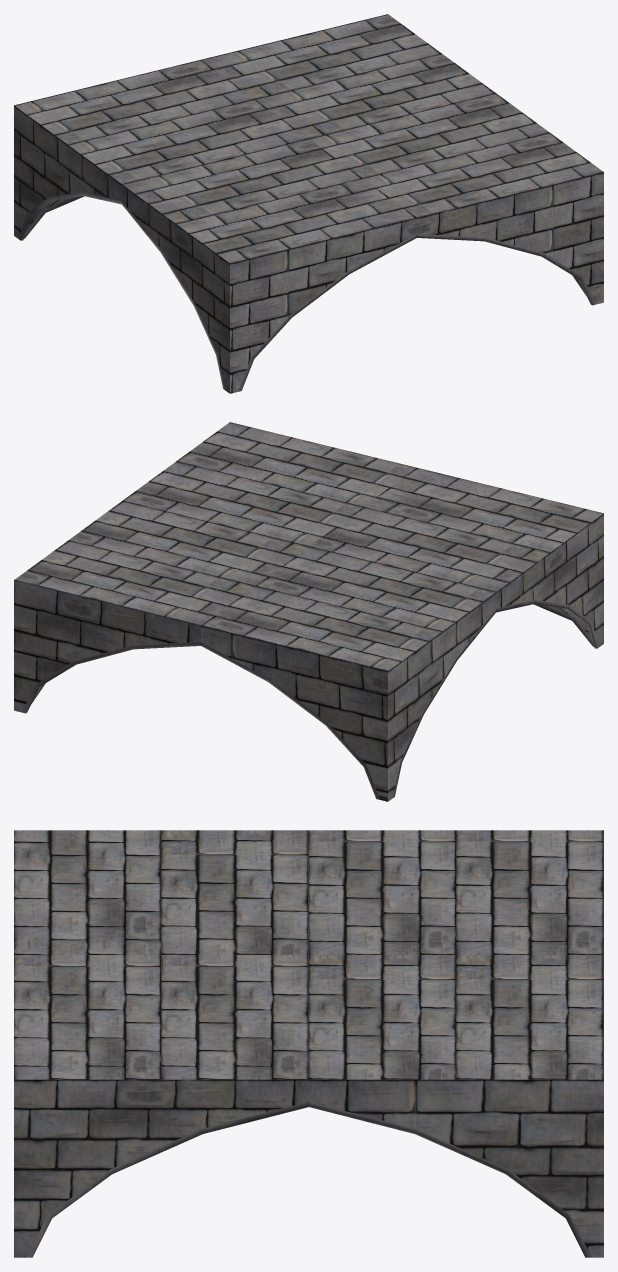
Rendered from vault_cross_junction_01.glb.
3 renders of one model, top to bottom at view 1: azimuth 30°, elevation 25°; view 2: azimuth 150°, elevation 25°; view 3: azimuth 270°, elevation 25°, orthographic. The views are drawn at different scales.
Parts seen in each view (by area): view 1: vault_cross_junction_01; view 2: vault_cross_junction_01; view 3: vault_cross_junction_01.
Part boxes in pixels (left/top/right/bottom): vault_cross_junction_01: left=14, top=14, right=603, bottom=393; vault_cross_junction_01: left=14, top=422, right=603, bottom=801; vault_cross_junction_01: left=14, top=830, right=603, bottom=1257.
Bounding box in the file's own units: 24 × 8 × 24.
1 material, 1 textured.
